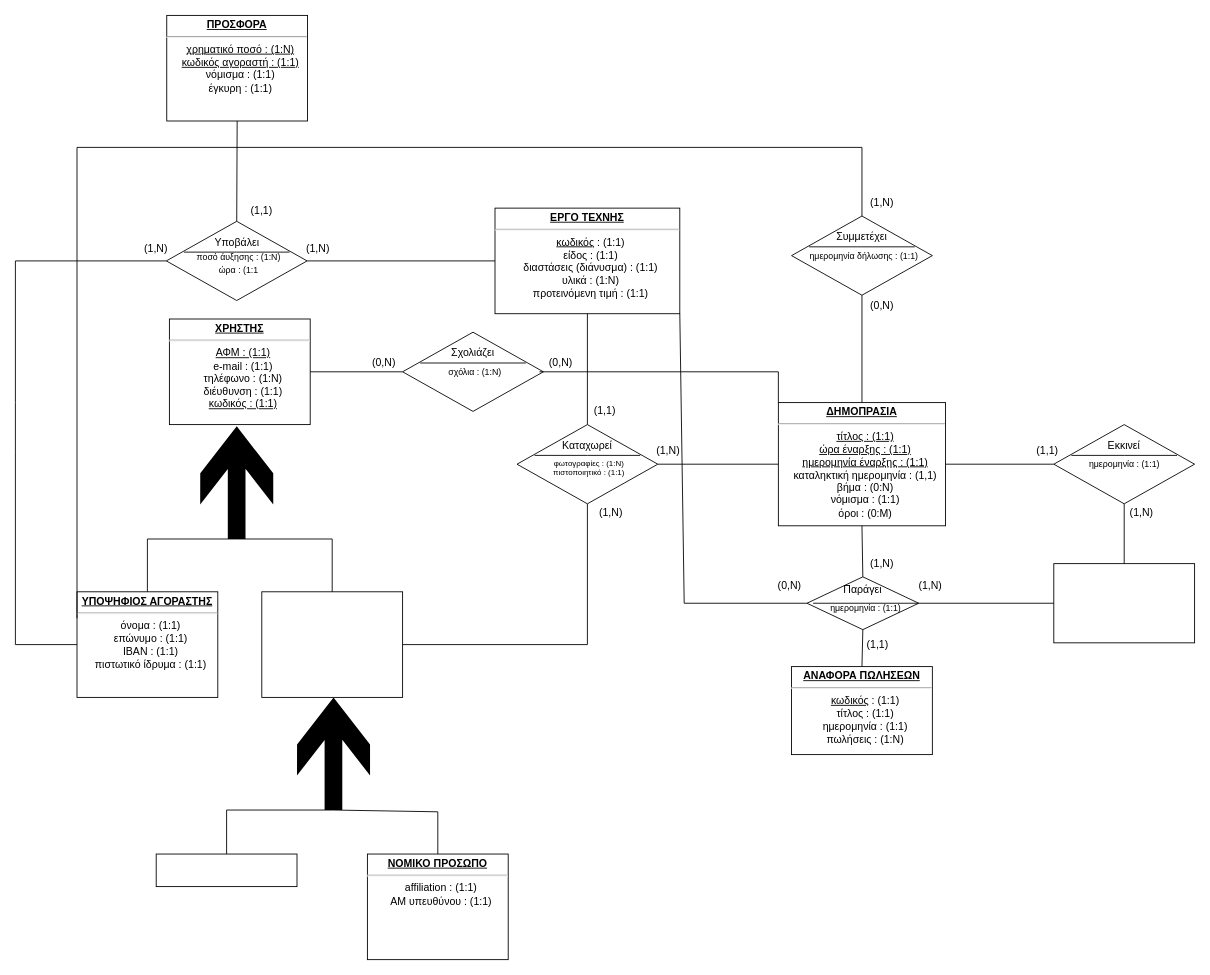
The diagram is 1210 pixels wide and 975 high, and some of its shapes have lost their labels. Each missing label, with the box of its shape:
ΔΗΜΟΠΡΑΤΙΚΟΣ ΟΙΚΟΣ όνομα : (1:1) ΑΦΜ : (1:1): (1053, 563, 1195, 643)
ΠΩΛΗΤΗΣ όνομα : (1:1) επώνυμο : (1:1): (261, 591, 403, 697)
ΦΥΣΙΚΟ ΠΡΟΣΩΠΟ: (155, 853, 297, 887)
